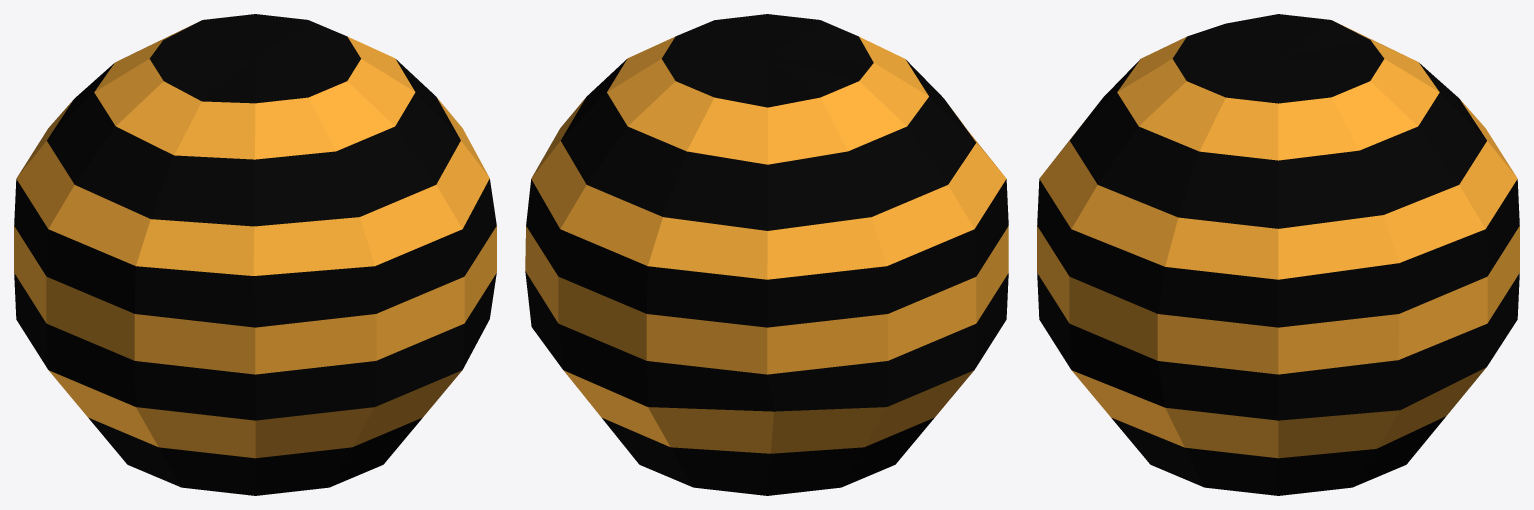
Rendered from SmokeBomb_DummySmokeBomb.fbx.
3 views of the same model, side by side, from view 1: azimuth 30°, elevation 25°; view 2: azimuth 150°, elevation 25°; view 3: azimuth 270°, elevation 25° (orthographic).
Visible parts, largest first — view 1: SmokeBomb_DummySmokeBomb; view 2: SmokeBomb_DummySmokeBomb; view 3: SmokeBomb_DummySmokeBomb.
Part boxes in pixels (left/top/right/bottom): SmokeBomb_DummySmokeBomb: left=14, top=14, right=496, bottom=495; SmokeBomb_DummySmokeBomb: left=525, top=14, right=1008, bottom=495; SmokeBomb_DummySmokeBomb: left=1037, top=14, right=1519, bottom=495.
Bounding box in the file's own units: 0.1919 × 0.1766 × 0.1919.
